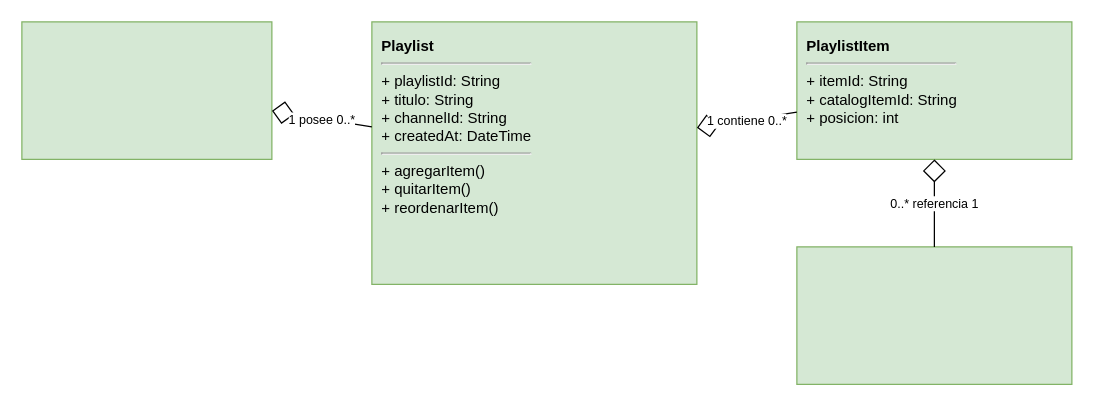
Image size: 1094x406. Some labels were removed from this diagram. Each missing label, with the box of its shape:
CatalogItem + catalogItemId: String + titulo: String + estado: String: (796, 246, 1072, 384)
Channel + channelId: String + nombre: String: (21, 21, 272, 159)
